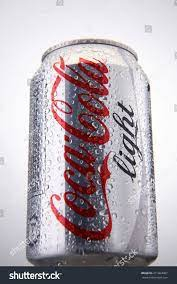can: (27, 35, 158, 267)
